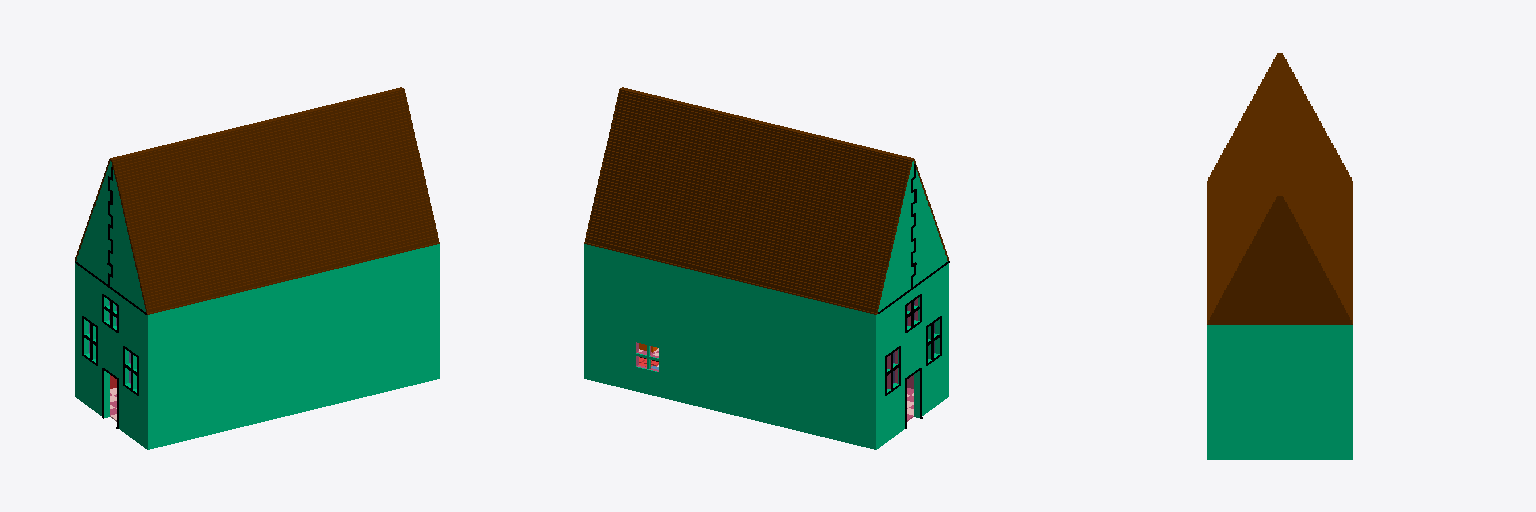
3 views of the same model, side by side, from view 1: azimuth 30°, elevation 25°; view 2: azimuth 150°, elevation 25°; view 3: azimuth 270°, elevation 25° (orthographic).
Visible parts, largest first — view 1: object 1; view 2: object 1; view 3: object 1.
Boxes of the visible parts, x1=… form: object 1: x1=75, y1=87, x2=439, y2=449; object 1: x1=584, y1=87, x2=949, y2=449; object 1: x1=1207, y1=53, x2=1352, y2=459.
Size of the model in its own units: 25.1 by 21.5 by 10.8.
1 materials, 1 textured.